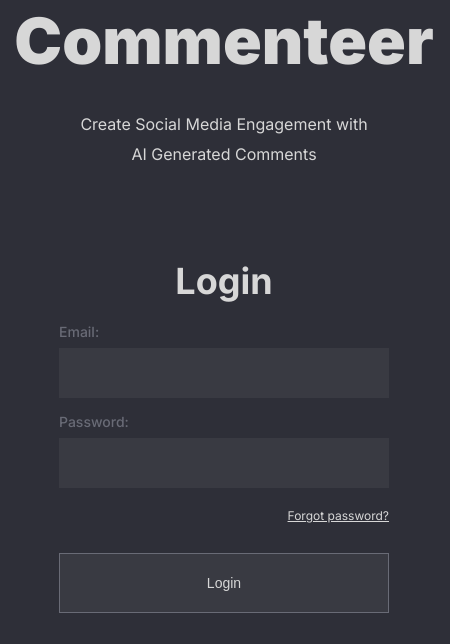
Test: User login › lets the user go to the reset password page
The image size is (450, 644).
Click the link "Forgot password?" at (339, 516), box [288, 508, 390, 523]
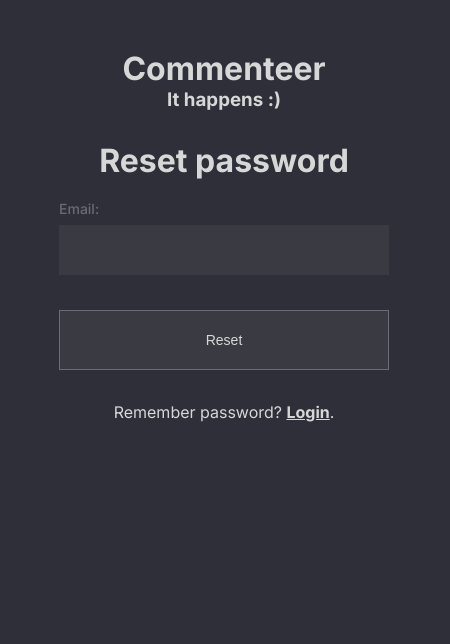
Now the heading "Reset password" is shown, box [99, 140, 349, 180]
